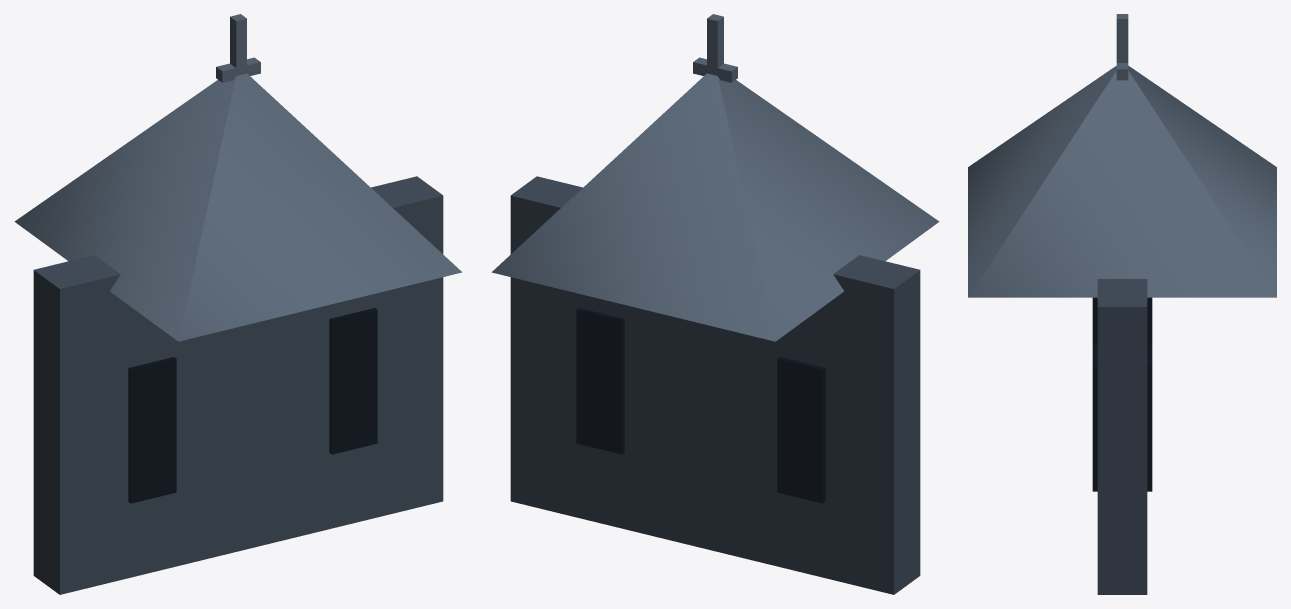
File: chapel_ruin.glb
The picture shows the model from 3 angles, left to right: view 1: azimuth 30°, elevation 25°; view 2: azimuth 150°, elevation 25°; view 3: azimuth 270°, elevation 25°; orthographic projection. The views are drawn at different scales.
Bounding box in the file's own units: 4.2 × 5.45 × 3.11.
